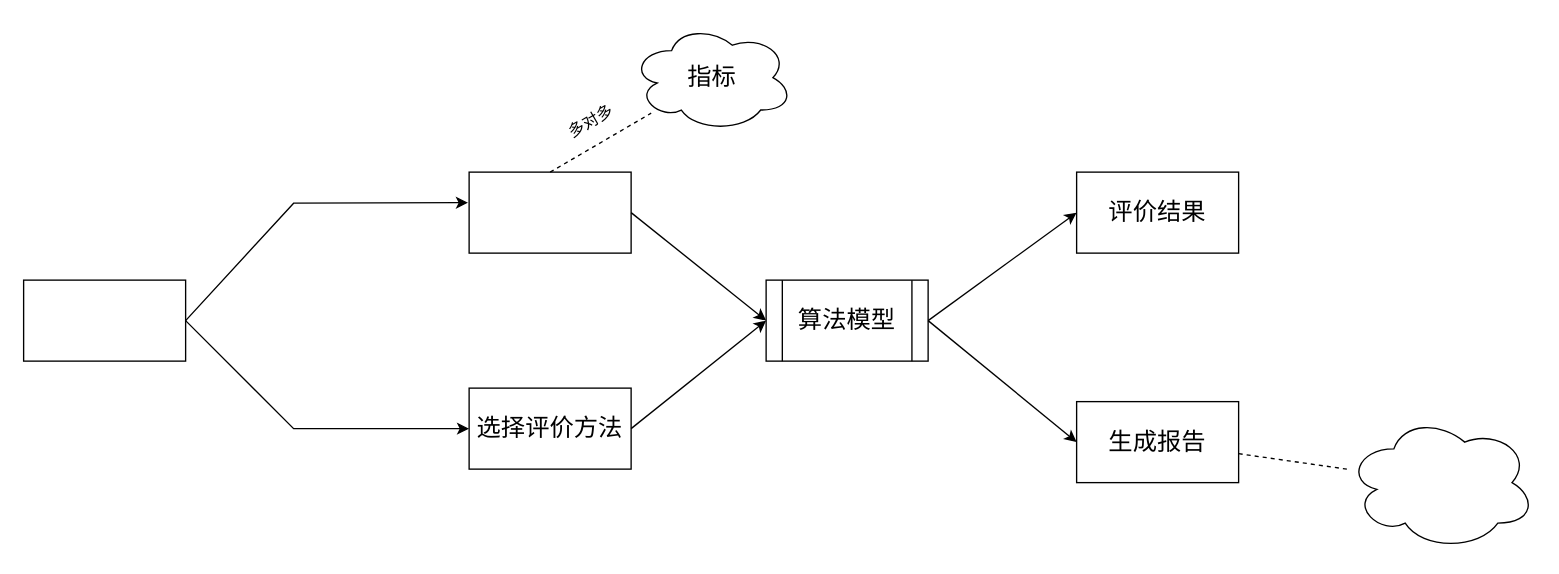
The diagram is 1559 pixels wide and 574 high, and some of its shapes have lost their labels. The centre of each missing label's shape, as x and y in pixels:
上传标准数据: (x=104, y=320)
报告内容包含：标准信息，指标信息，评估方法信息: (x=1440, y=482)
选择指标体系: (x=549, y=212)
